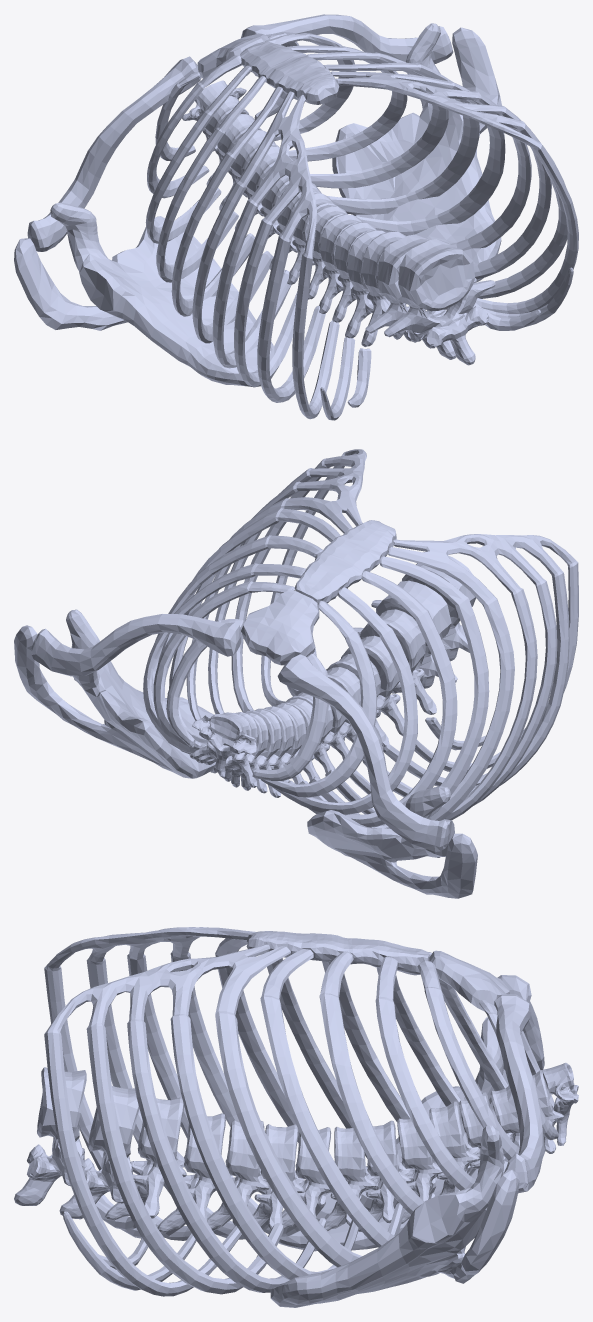
File: ArmlessSkeleton.fbx
3 views of the same model, one above another, from view 1: azimuth 30°, elevation 25°; view 2: azimuth 150°, elevation 25°; view 3: azimuth 270°, elevation 25° (orthographic). The views are drawn at different scales.
Parts seen in each view (by area): view 1: Body_1, Body_5, Body_2, Body_3, Body_16, Body_11, Body_6, Body_12, Body_8, Body_4, Body_7, Body_15 (+22 smaller); view 2: Body_1, Body_3, Body_2, Body_5, Body_11, Body_12, Body_4, Body_7, Body_9, Body_31, Body_14, Body_10 (+19 smaller); view 3: Body_2, Body_1, Body_3, Body_6, Body_8, Body_12, Body_10, Body_16, Body_13, Body_5, Body_15, Body_17 (+19 smaller).
Part boxes in pixels (x1,y1,x2,y2): Body_1: (192,41,376,419); Body_5: (14,202,273,387); Body_2: (330,71,578,313); Body_3: (332,23,501,282); Body_16: (384,239,495,365); Body_11: (27,56,201,251); Body_6: (323,62,479,214); Body_12: (241,14,453,63); Body_8: (306,52,448,188); Body_4: (171,86,283,316); Body_7: (156,76,266,282); Body_15: (365,234,476,359); Body_1: (295,520,578,824); Body_3: (14,609,215,778); Body_2: (169,449,366,742); Body_5: (307,786,477,898); Body_11: (277,654,449,851); Body_12: (31,614,241,676); Body_4: (299,556,489,828); Body_7: (288,571,457,827); Body_9: (272,587,417,815); Body_31: (241,590,319,665); Body_14: (261,600,376,797); Body_10: (143,563,305,751); Body_2: (44,944,404,1296); Body_1: (44,927,429,1240); Body_3: (270,1125,519,1307); Body_6: (260,949,435,1247); Body_8: (319,951,424,1214); Body_12: (494,994,544,1193); Body_10: (375,956,507,1190); Body_16: (14,1067,86,1205); Body_13: (417,960,519,1160); Body_5: (278,1017,512,1251); Body_15: (59,1085,139,1219); Body_17: (105,1097,186,1220).
Size of the model in its own units: 0.0169 by 0.0152 by 0.0103.
